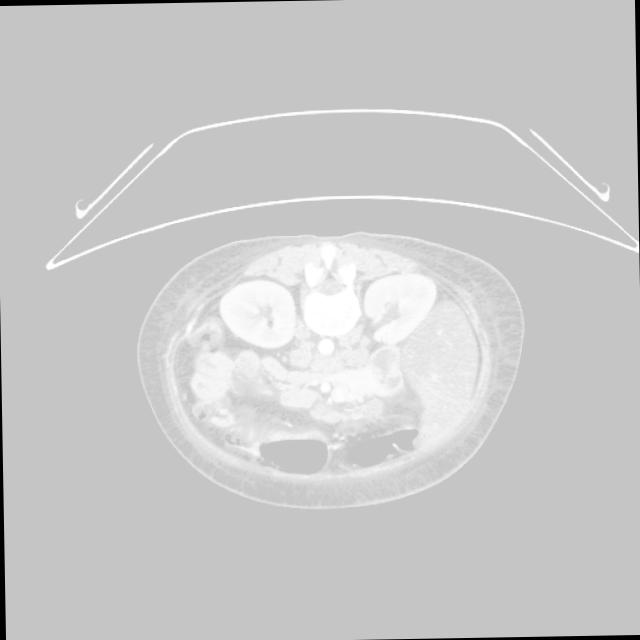NORMAL: (142, 236, 547, 520)
